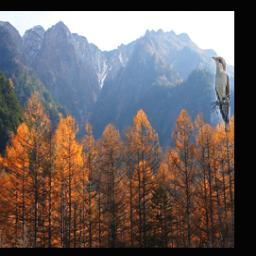Cuckoo: (212, 55, 231, 146)
